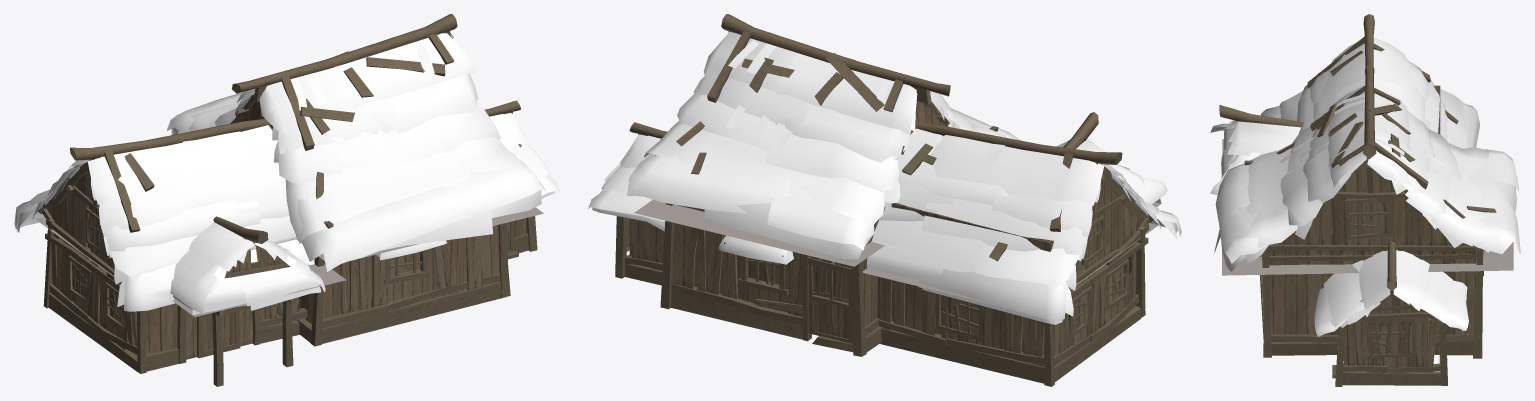
Rendered from Homeworld_Exterior_Ly_Build_House_08_Lod0.fbx.
The picture shows the model from 3 angles, left to right: view 1: azimuth 30°, elevation 25°; view 2: azimuth 150°, elevation 25°; view 3: azimuth 270°, elevation 25°; orthographic projection. The views are drawn at different scales.
Parts seen in each view (by area): view 1: Area_Ly_Build_KS_Abandoned_01_Lod0, Area_Ly_Build_KS_Abandoned_01_Ocl; view 2: Area_Ly_Build_KS_Abandoned_01_Lod0, Area_Ly_Build_KS_Abandoned_01_Ocl; view 3: Area_Ly_Build_KS_Abandoned_01_Lod0, Area_Ly_Build_KS_Abandoned_01_Ocl.
Part boxes in pixels (left/top/right/bottom): Area_Ly_Build_KS_Abandoned_01_Lod0: left=14, top=14, right=559, bottom=386; Area_Ly_Build_KS_Abandoned_01_Ocl: left=35, top=207, right=543, bottom=316; Area_Ly_Build_KS_Abandoned_01_Lod0: left=588, top=14, right=1181, bottom=386; Area_Ly_Build_KS_Abandoned_01_Ocl: left=634, top=199, right=1161, bottom=305; Area_Ly_Build_KS_Abandoned_01_Lod0: left=1210, top=14, right=1520, bottom=386; Area_Ly_Build_KS_Abandoned_01_Ocl: left=1222, top=139, right=1513, bottom=275.
Size of what is drawn, in the model's own units: 15.45 by 7.57 by 9.9.
